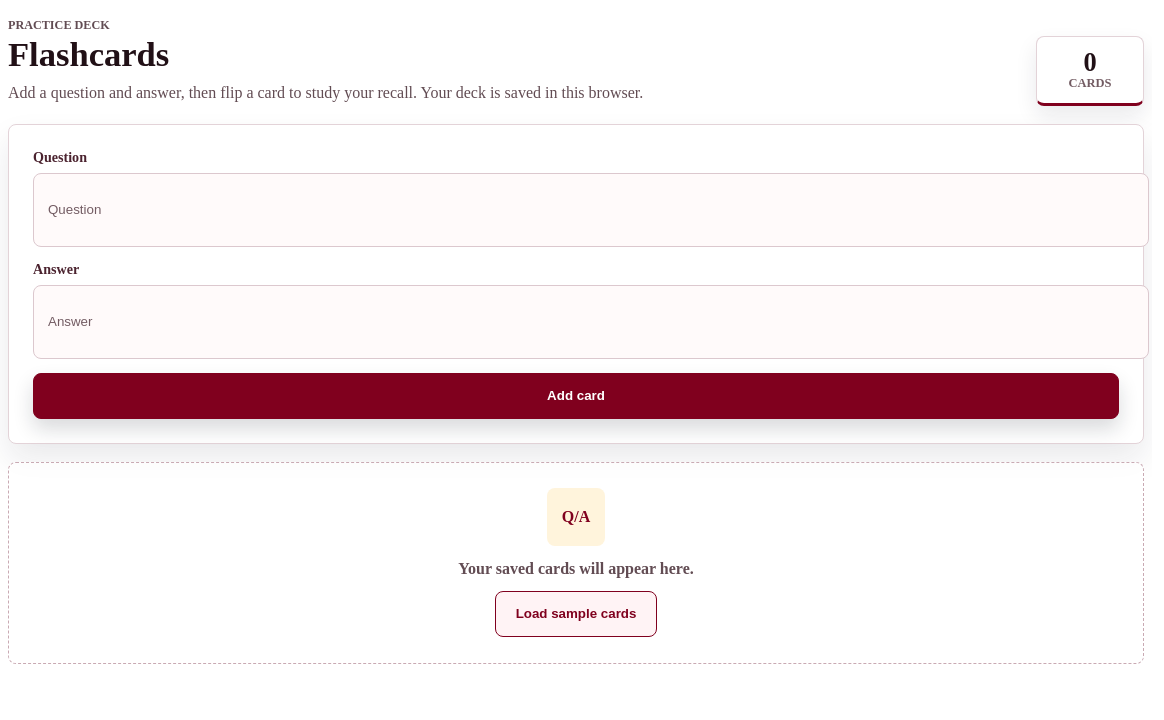
Scenario: flashcard deck › asks for both fields when the form is empty
Click the button "Add card" at (576, 396), box [33,373,1119,419]
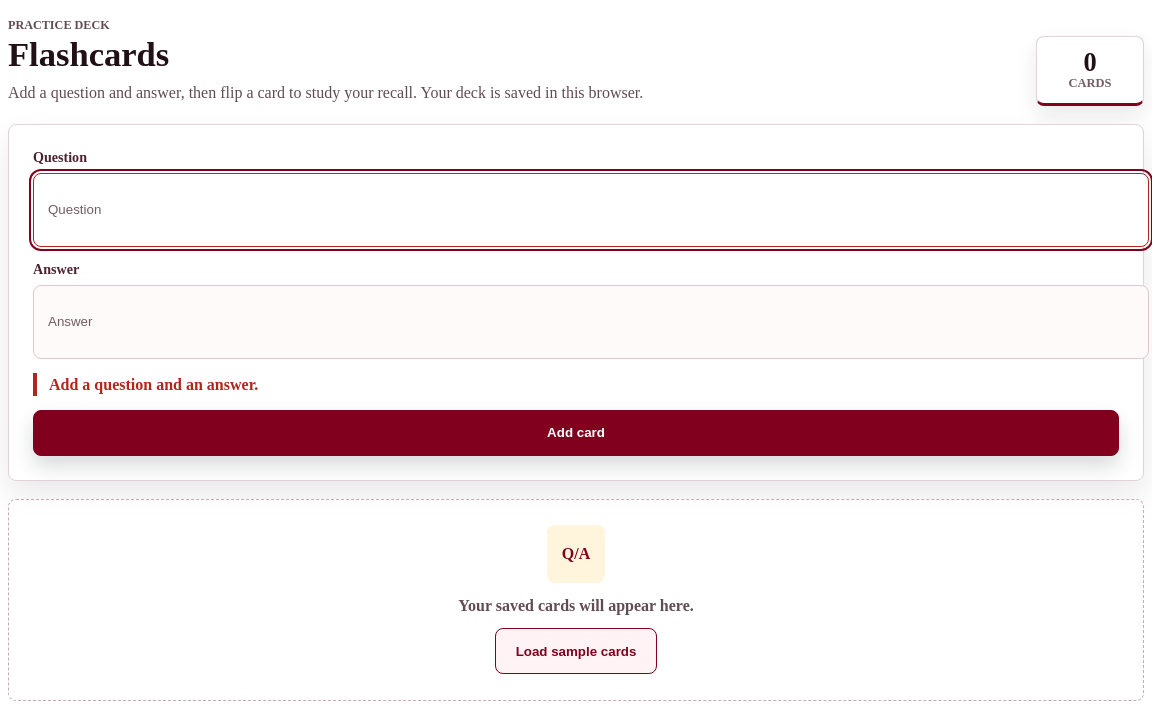
expect the message reads "Add a question and an answer.": met, box [49,376,258,393]
